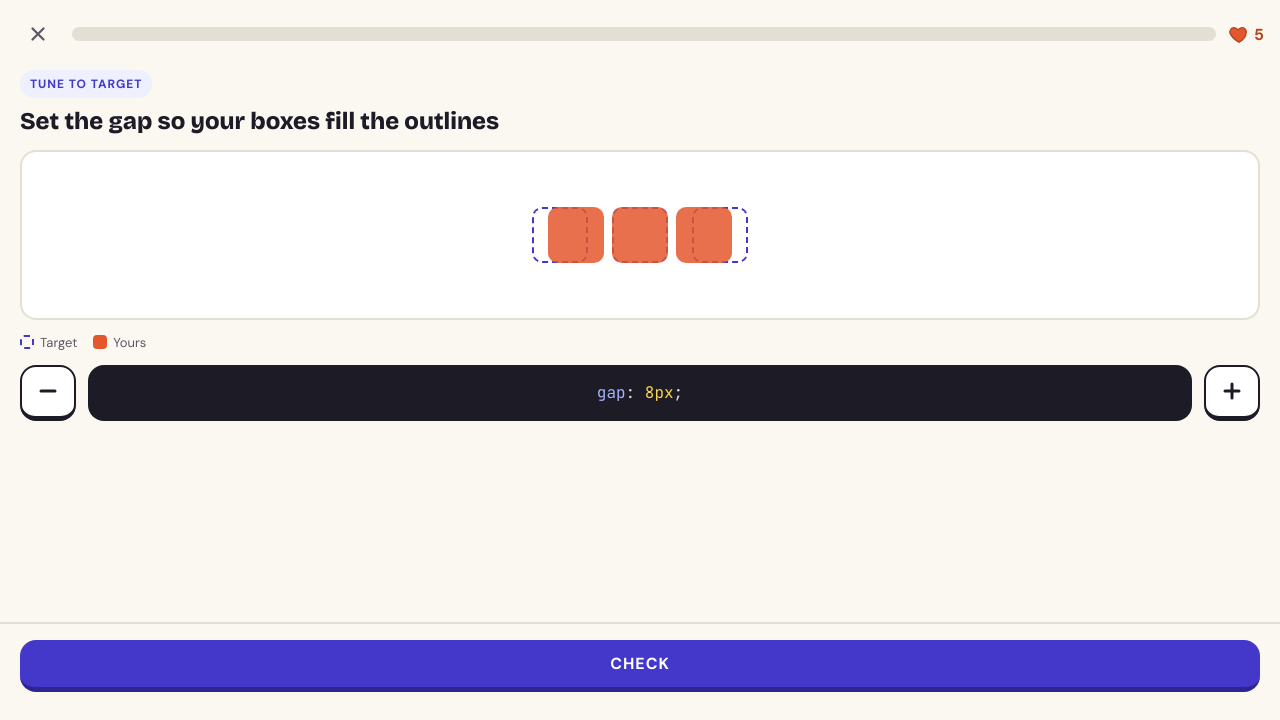
Tune to target › disables decrease at the minimum
The image size is (1280, 720).
Click the button named "Decrease value" at (48, 393), box [20,365,76,421]
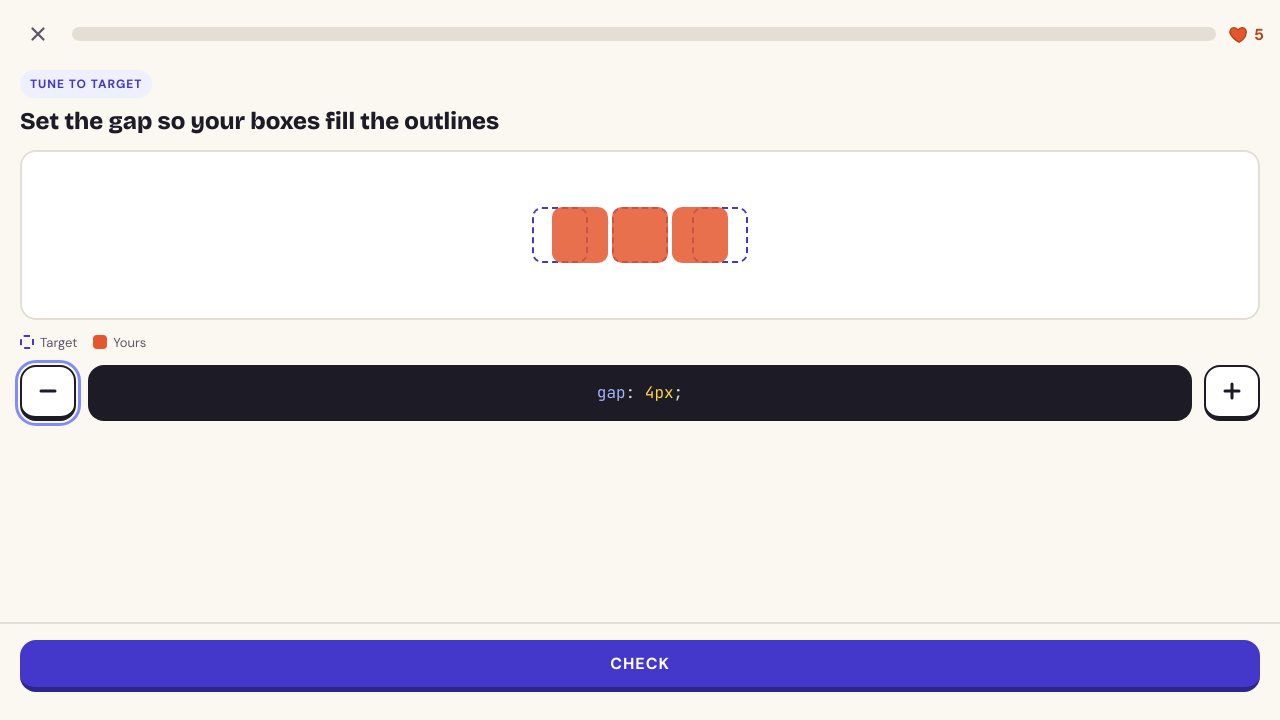
Click the button named "Decrease value" at (48, 393), box [20,365,76,421]
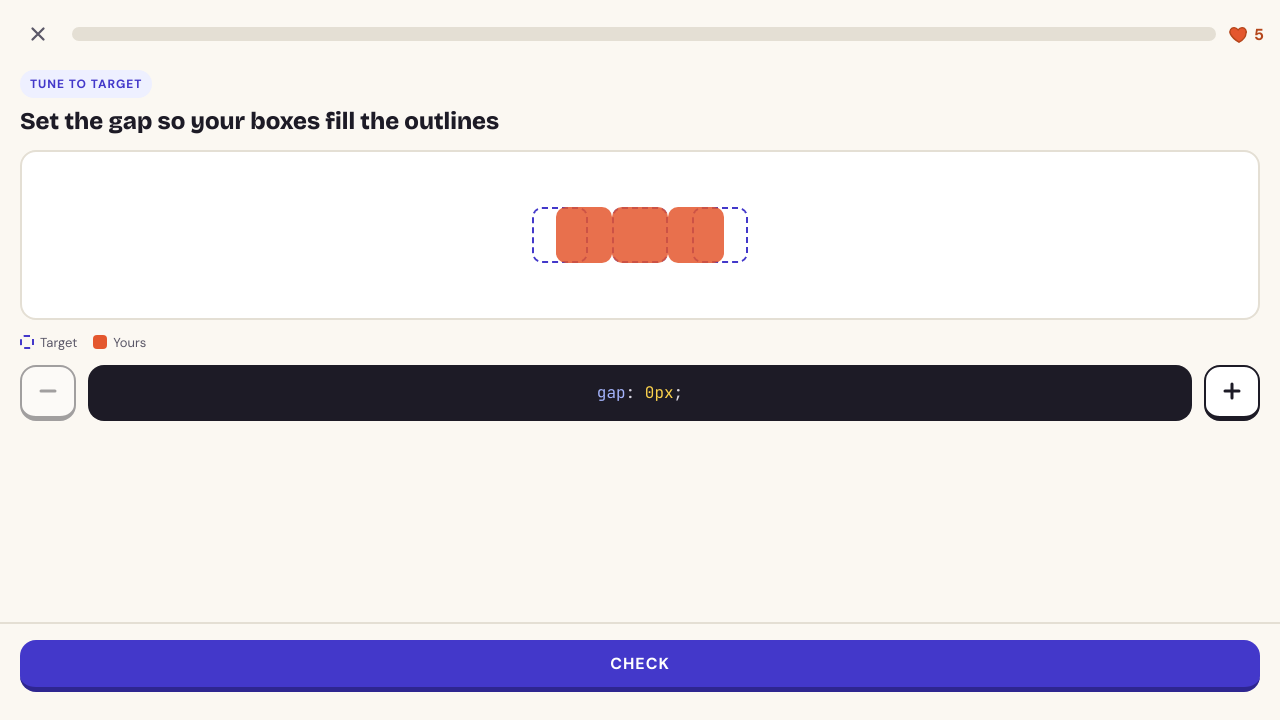
expect the text "0px" is shown: met, box [645,382,674,403]
expect the button named "Decrease value" is disabled: met, box [20,365,76,421]
